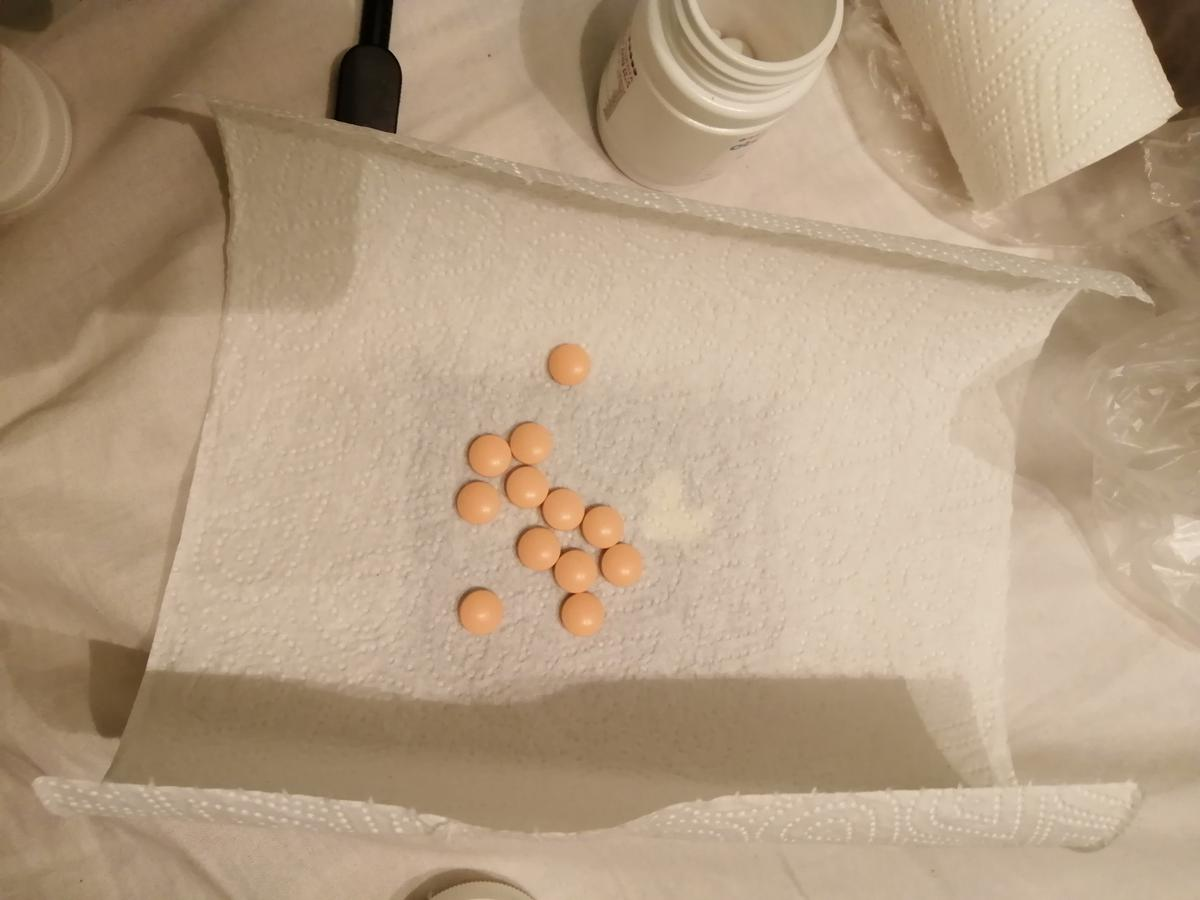tablet: (456, 583, 505, 634), (556, 589, 607, 635), (465, 433, 513, 480), (455, 478, 501, 527), (507, 420, 558, 464), (553, 548, 600, 595), (538, 487, 587, 531), (516, 524, 563, 569), (545, 340, 588, 389), (580, 504, 626, 549), (505, 463, 549, 510), (599, 541, 644, 586)
